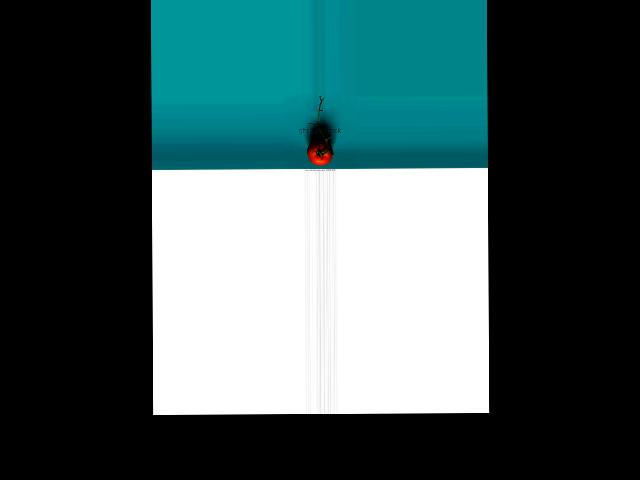tomato: (307, 139, 333, 165)
